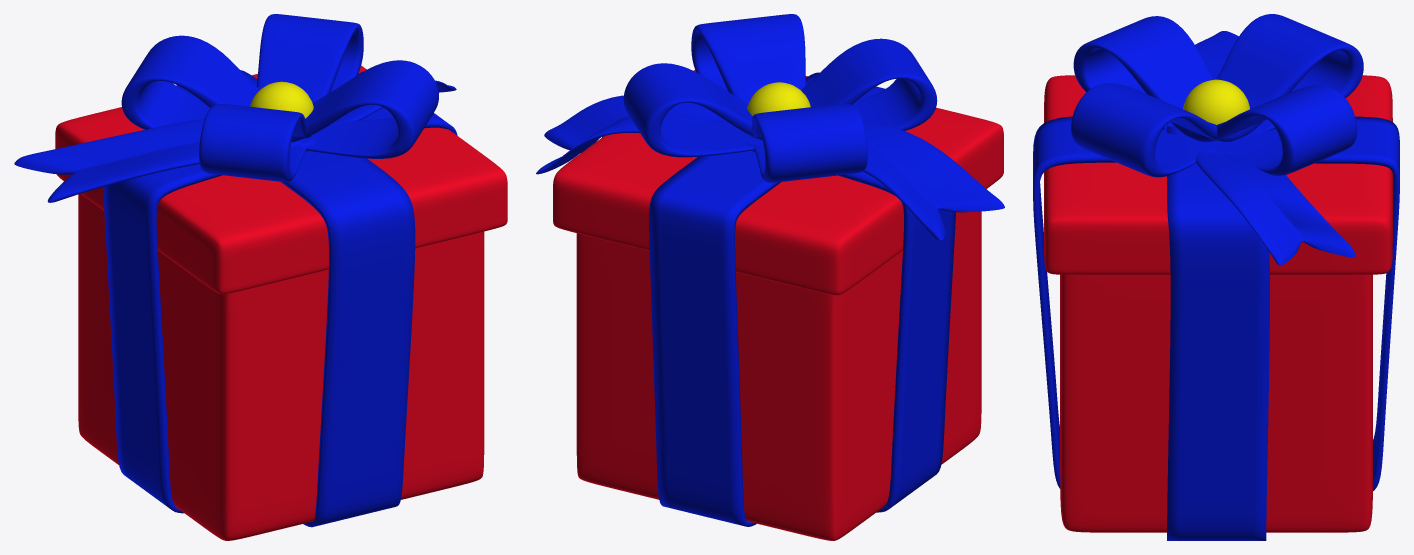
The model's file is present.fbx.
3 renders of one model, left to right at view 1: azimuth 30°, elevation 25°; view 2: azimuth 150°, elevation 25°; view 3: azimuth 270°, elevation 25°, orthographic. The views are drawn at different scales.
Visible parts, largest first — view 1: Cube, Cube.002, Cube.001, Cube.003, Cube.004, Cube.005, Plane, Sphere, Plane.001; view 2: Cube, Cube.002, Cube.001, Cube.005, Cube.004, Cube.003, Plane, Plane.001, Sphere; view 3: Cube, Cube.003, Cube.001, Cube.004, Cube.005, Cube.002, Plane.001, Sphere, Plane.
Part boxes in pixels (x1,y1,x2,y2): Cube: (78,194,484,540); Cube.002: (176,70,415,527); Cube.001: (55,65,507,294); Cube.003: (103,107,457,513); Cube.004: (121,35,438,158); Cube.005: (199,14,363,181); Plane: (14,118,302,202); Sphere: (250,81,313,118); Plane.001: (336,71,456,122); Cube: (576,211,981,540); Cube.002: (649,72,885,526); Cube.001: (553,70,1003,295); Cube.005: (623,38,937,157); Cube.004: (691,14,867,182); Cube.003: (602,120,955,512); Plane: (862,120,1004,240); Plane.001: (536,95,723,174); Sphere: (747,82,810,115); Cube: (1060,274,1372,532); Cube.003: (1167,126,1269,540); Cube.001: (1044,75,1392,274); Cube.004: (1071,14,1363,177); Cube.005: (1073,16,1357,175); Cube.002: (1033,116,1399,490); Plane.001: (1196,152,1355,265); Sphere: (1183,79,1249,124); Plane: (1195,31,1238,79).
Bounding box in the file's own units: 331 × 292 × 234.
